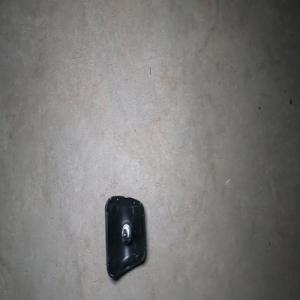LuggagePart: (104, 194, 147, 281)
